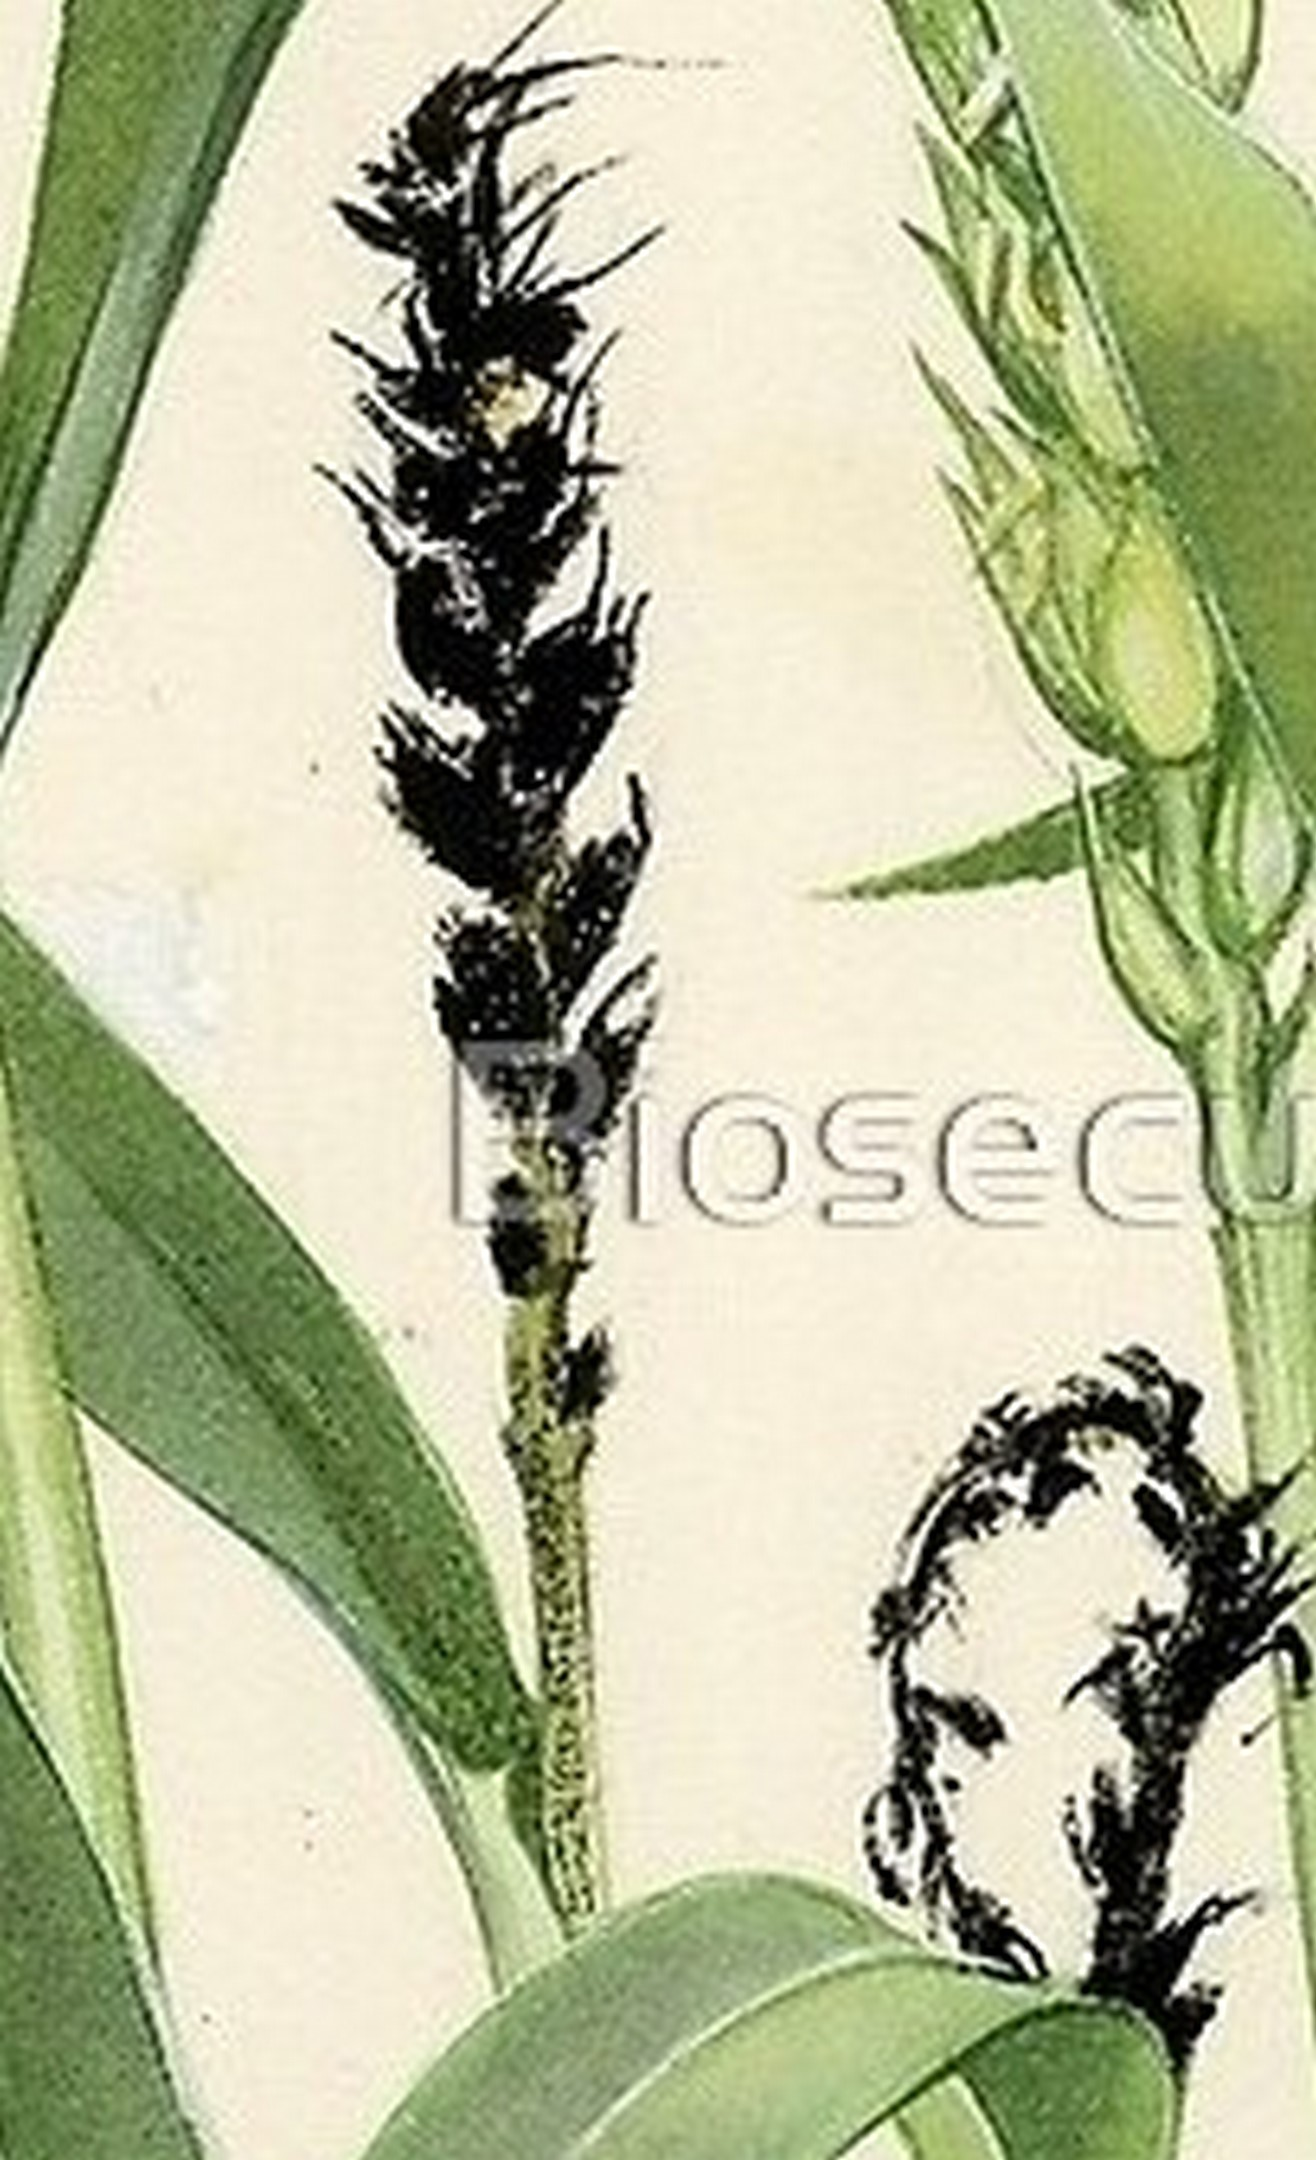Wheat Loose Smut: (316, 5, 730, 1129)
